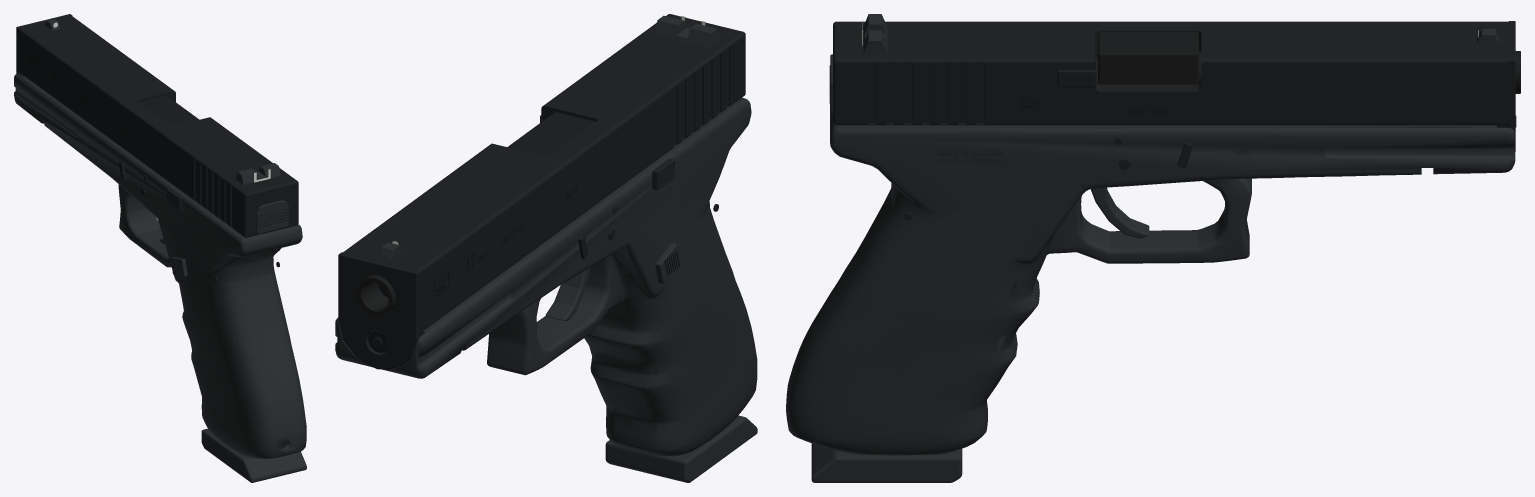
The model's file is Glock17_Gen4_LOD0.glb.
The picture shows the model from 3 angles, left to right: view 1: azimuth 30°, elevation 25°; view 2: azimuth 150°, elevation 25°; view 3: azimuth 270°, elevation 25°; orthographic projection. The views are drawn at different scales.
Parts seen in each view (by area): view 1: G17_Frame_LOD0, G17_Slide_LOD0, G17_Magazine_LOD0, G17_BarrelVisual_LOD0, G17_RearSight_LOD0; view 2: G17_Frame_LOD0, G17_Slide_LOD0, G17_Magazine_LOD0, G17_BarrelVisual_LOD0, G17_RearSight_LOD0, G17_Trigger_LOD0; view 3: G17_Frame_LOD0, G17_Slide_LOD0, G17_BarrelVisual_LOD0, G17_Magazine_LOD0, G17_Trigger_LOD0, G17_RearSight_LOD0.
Boxes of the visible parts, x1,y1,x2,y2 form: G17_Frame_LOD0: [14, 74, 306, 458]; G17_Slide_LOD0: [16, 14, 298, 237]; G17_Magazine_LOD0: [201, 428, 306, 482]; G17_BarrelVisual_LOD0: [138, 95, 198, 125]; G17_RearSight_LOD0: [235, 163, 280, 184]; G17_Frame_LOD0: [335, 97, 757, 456]; G17_Slide_LOD0: [338, 14, 745, 369]; G17_Magazine_LOD0: [605, 415, 757, 482]; G17_BarrelVisual_LOD0: [357, 112, 595, 315]; G17_RearSight_LOD0: [654, 15, 719, 47]; G17_Trigger_LOD0: [545, 267, 590, 320]; G17_Frame_LOD0: [786, 104, 1516, 455]; G17_Slide_LOD0: [829, 21, 1515, 151]; G17_BarrelVisual_LOD0: [1098, 32, 1520, 93]; G17_Magazine_LOD0: [811, 443, 962, 482]; G17_Trigger_LOD0: [1091, 187, 1149, 238]; G17_RearSight_LOD0: [862, 14, 887, 53].
Size of the model in its own units: 0.0323 by 0.1315 by 0.2003.
1 material, 1 textured.
